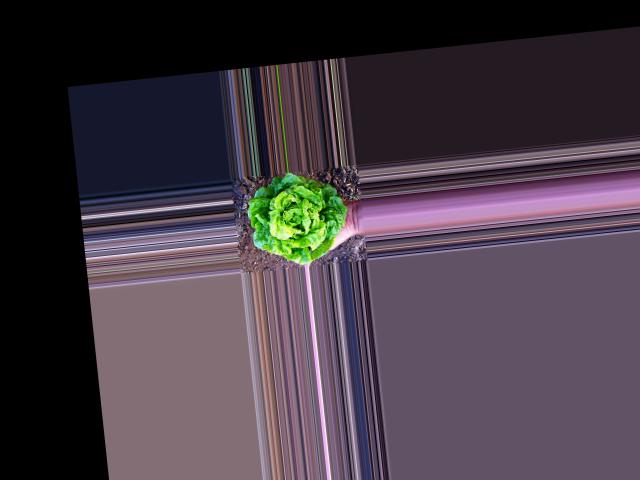lettuce: (242, 170, 345, 267)
